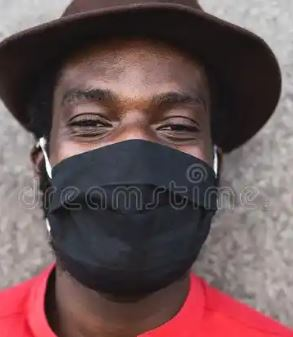with_facemask: (49, 153, 228, 284)
